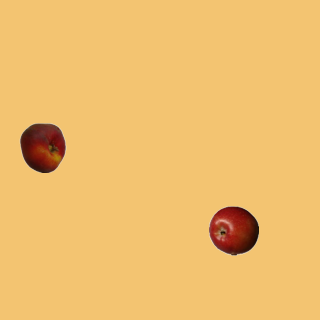Apple Braeburn: (208, 205, 258, 255)
Nectarine Flat: (17, 122, 67, 172)
